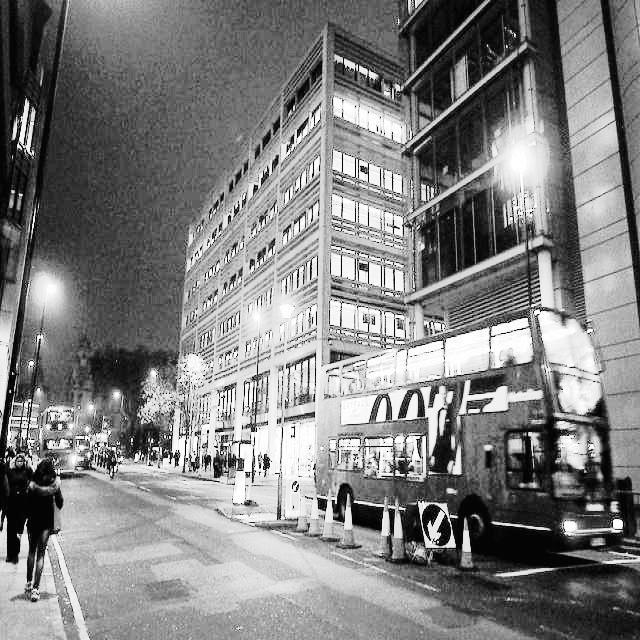Bus: (300, 340, 640, 613), (31, 378, 88, 503)
